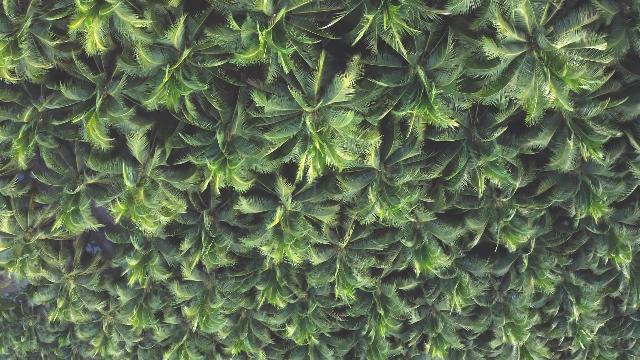trees: (450, 2, 618, 126), (365, 6, 482, 128), (176, 64, 282, 188), (332, 112, 438, 225), (121, 4, 229, 112), (89, 131, 197, 235), (202, 3, 337, 82), (240, 168, 338, 269), (422, 104, 524, 199), (59, 49, 150, 147), (272, 68, 362, 161), (4, 76, 89, 169), (166, 179, 249, 273), (540, 141, 634, 221), (33, 147, 117, 235), (307, 217, 386, 304), (456, 181, 546, 253), (46, 234, 109, 319)
